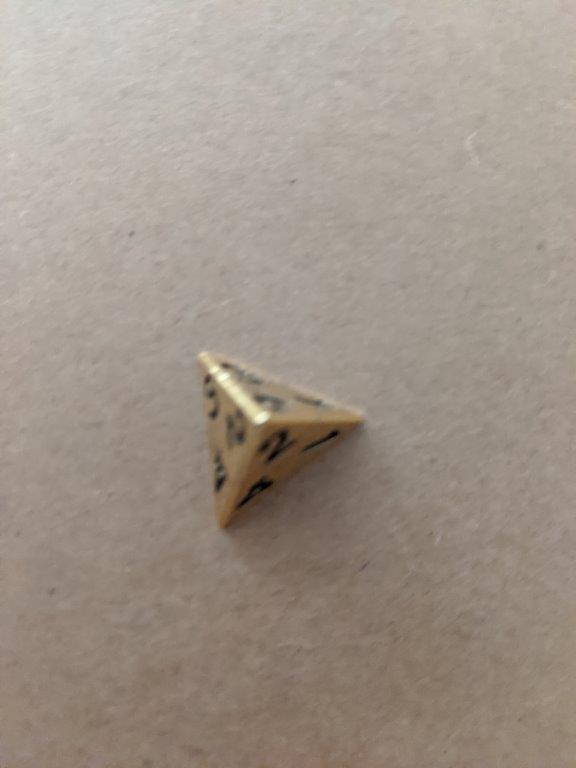d4-2: (196, 345, 368, 540)
